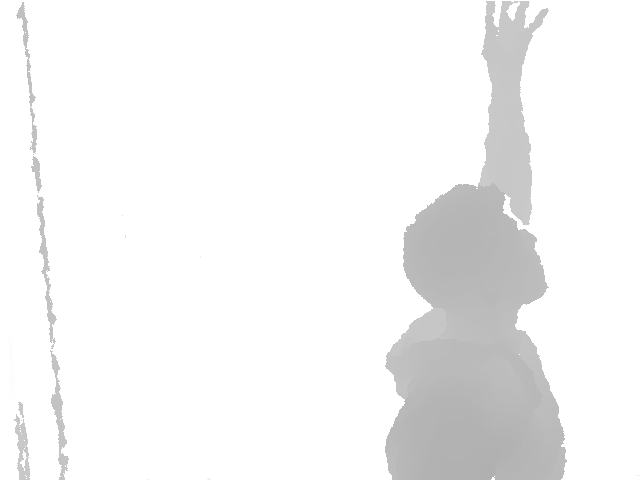hand: (480, 2, 549, 74)
head: (401, 183, 549, 316)
person: (384, 1, 569, 480)
